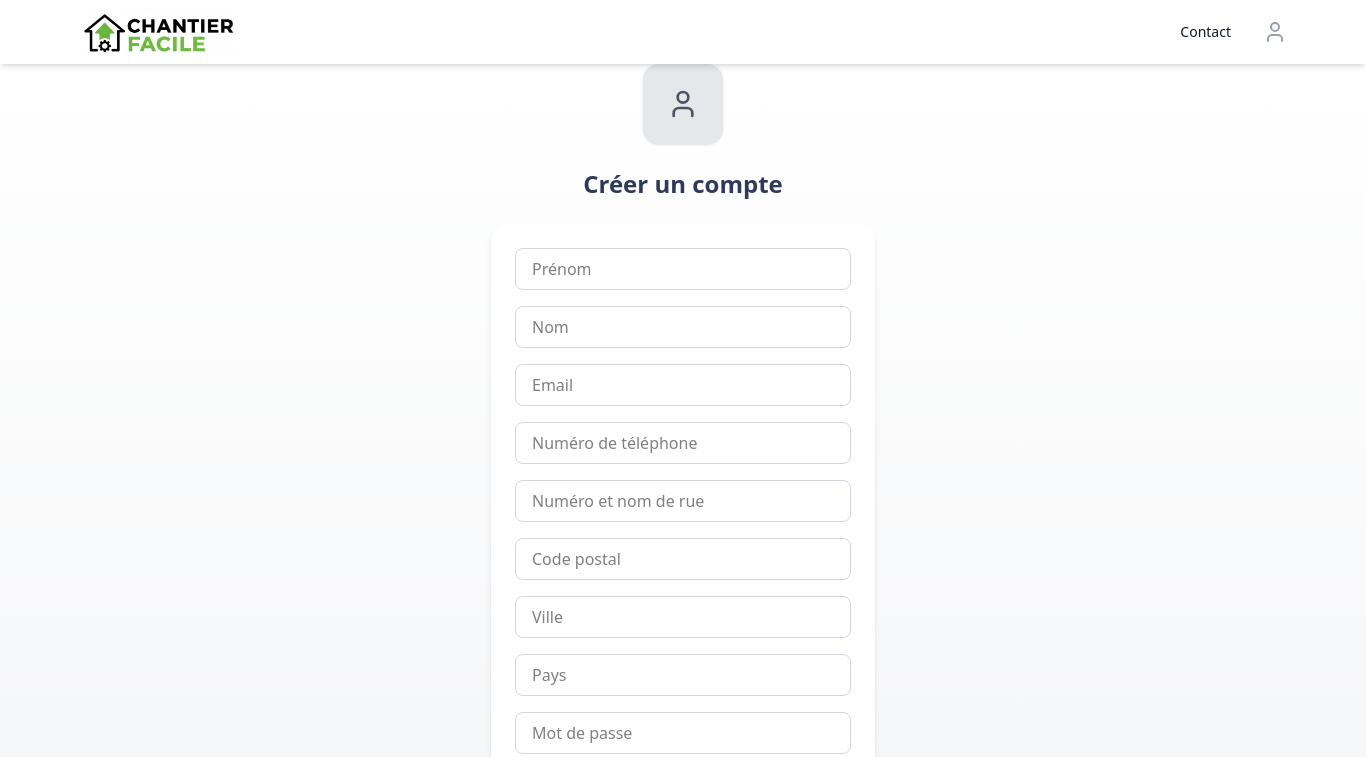
Test case: Signup User (Customer) › should show error for invalid phone number
The width and height of the screenshot is (1366, 757).
Type "123" into the field named "telephone" at coordinates (683, 443), box x1=515 y1=422 x2=851 y2=464
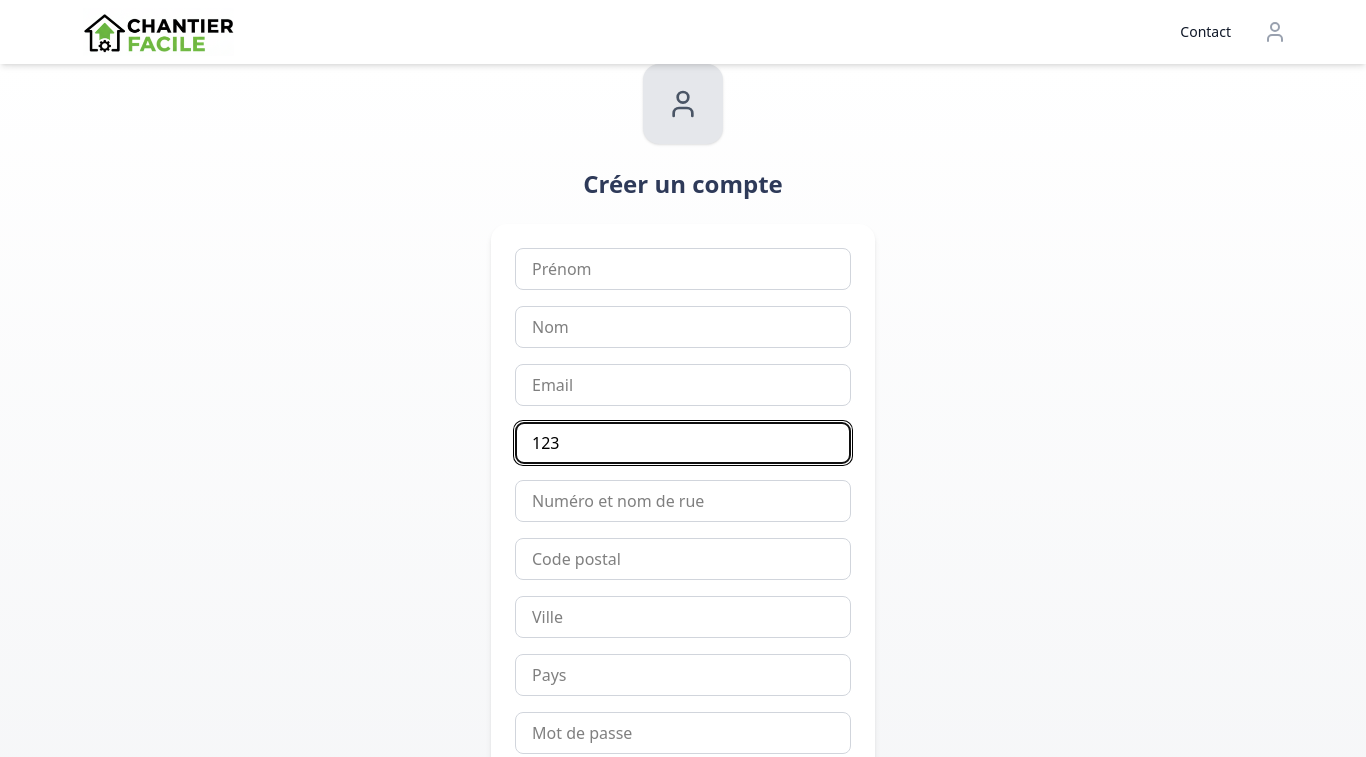
Leave the field named "telephone", box x1=515 y1=422 x2=851 y2=464
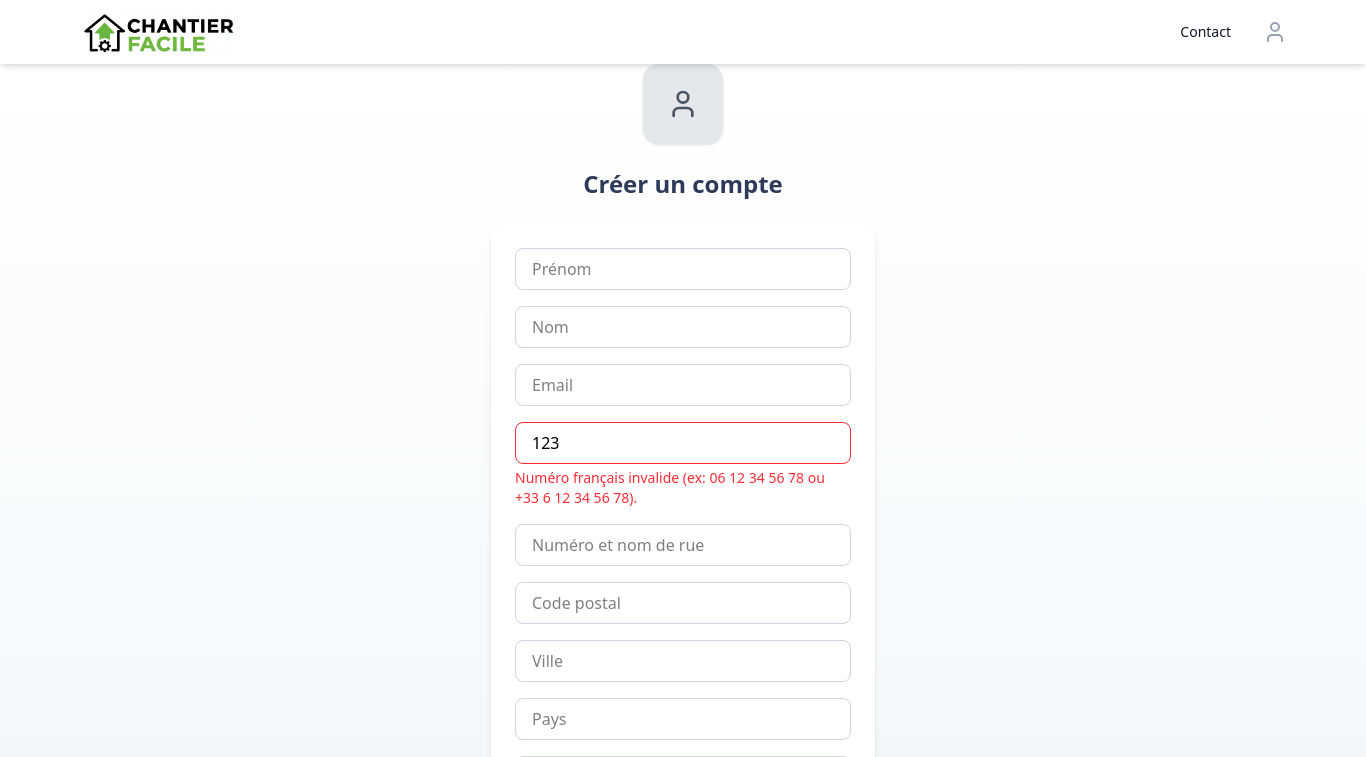
Expected: the text "Numéro français invalide" is shown, x1=515 y1=468 x2=825 y2=507
